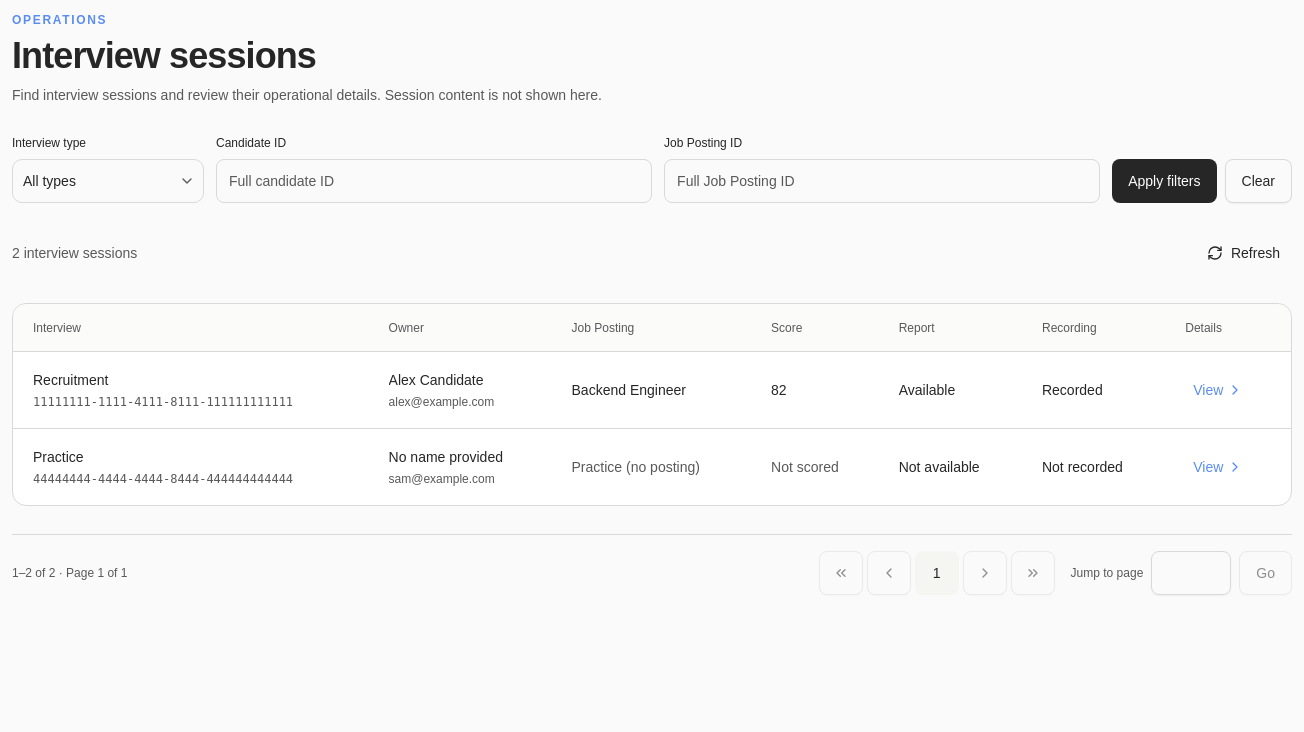
Test: AdminInterviewSessions › blocks a malformed candidate ID before any request
Expected: the table named "Interview sessions" is shown, x1=13 y1=304 x2=1291 y2=505
Type "not-a-uuid" into the field labelled "Candidate ID" at (434, 181), box x1=216 y1=159 x2=652 y2=203
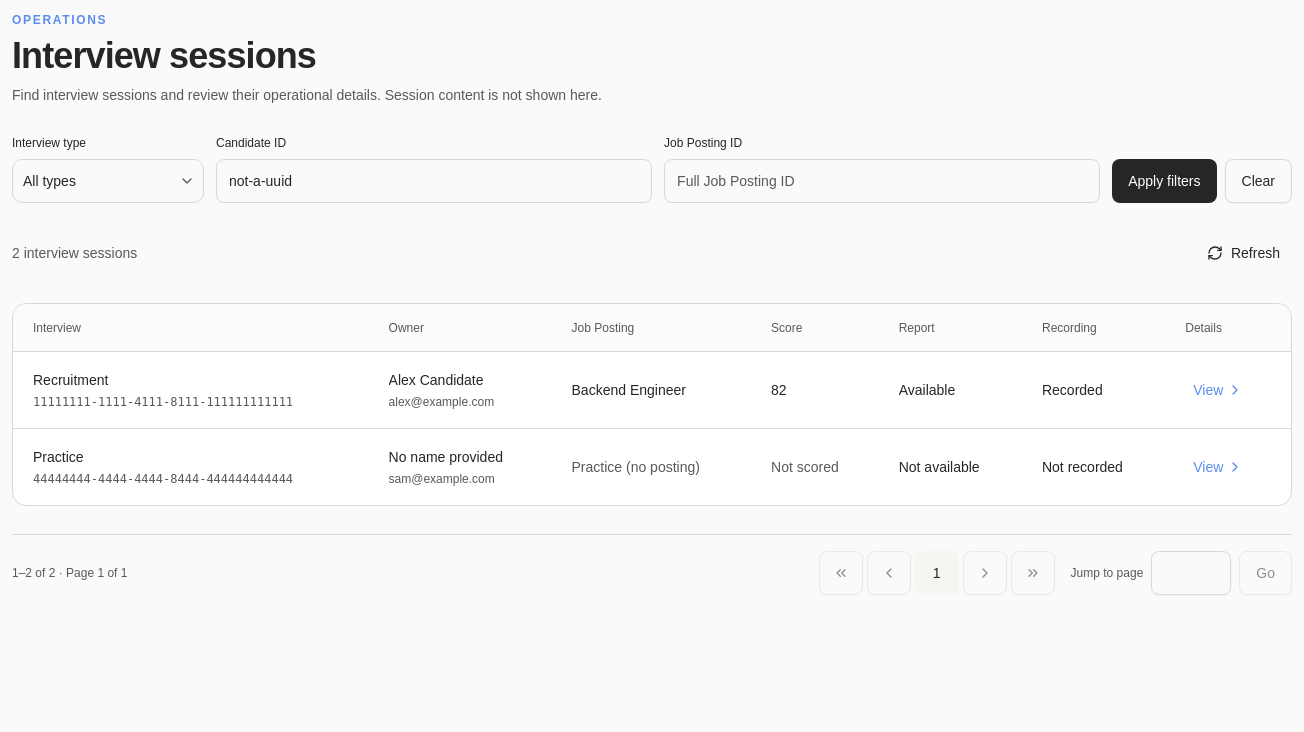
Click the button "Apply filters" at (1164, 181), box x1=1112 y1=159 x2=1217 y2=203
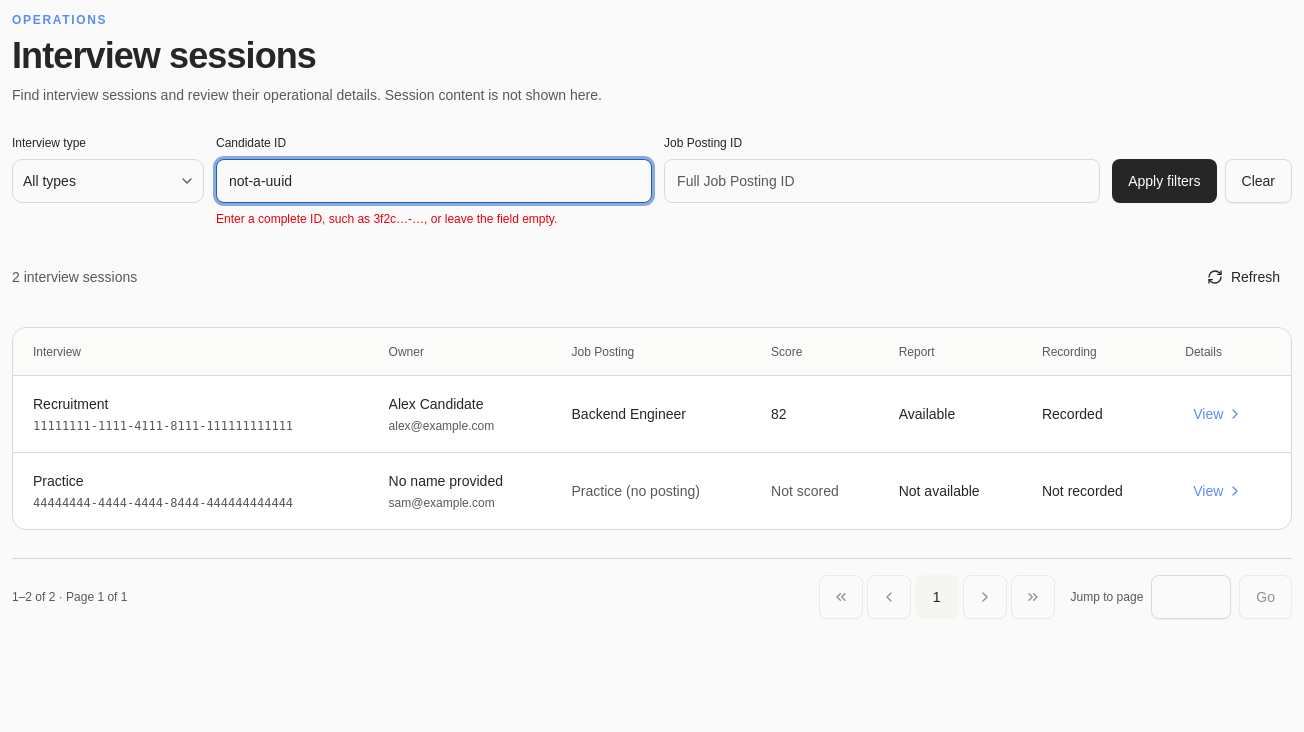
Expected: the text "Enter a complete ID, such as 3f2c…-…, or leave the field empty." is shown, x1=216 y1=212 x2=557 y2=226
